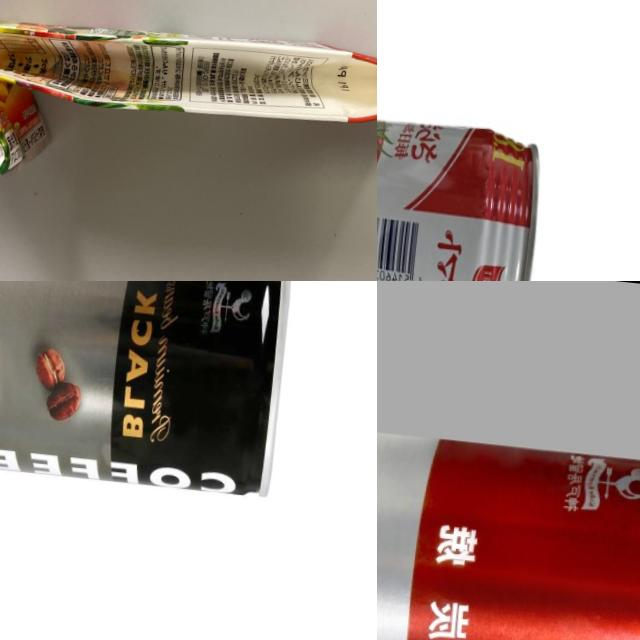Aluminium Foil: (0, 0, 377, 225)
Can: (0, 281, 297, 516), (377, 396, 640, 640), (377, 96, 551, 281)
